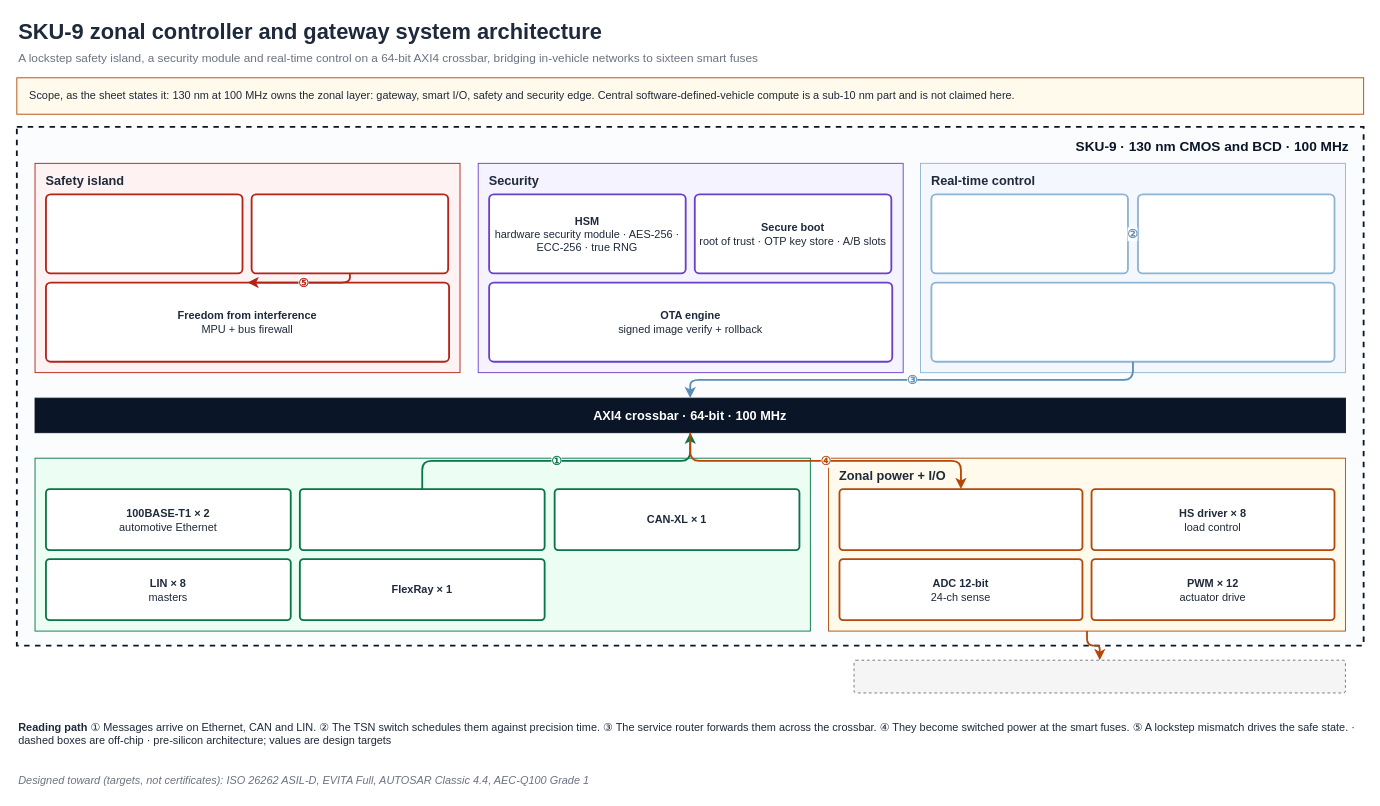
The diagram is 1380 pixels wide and 806 high, and some of its shapes have lost their labels. The box of each missing label's shape, as (x1, y1, x2, y2) in pixels:
CAN-FD × 8: (298, 488, 545, 551)
Comparator bus + retire · mismatch → safe state: (250, 193, 449, 274)
DGridRiscV × 2 RV32IM_Zicsr · lockstep · 100 MHz · +2 cycle skew · PMP · ECC: (45, 193, 243, 274)
In-vehicle network · gateway: (34, 457, 810, 631)
PTP 802.1AS clock · sub-µs sync: (1137, 193, 1335, 274)
Service router SOME/IP + DoIP: (930, 281, 1335, 362)
Smart fuse × 16 eFuse + sense · replaces relay box: (838, 488, 1083, 551)
To the zone harness · loads, sensors, actuators: (853, 659, 1345, 693)
TSN switch 802.1Qbv · time-aware shaper: (930, 193, 1128, 274)
